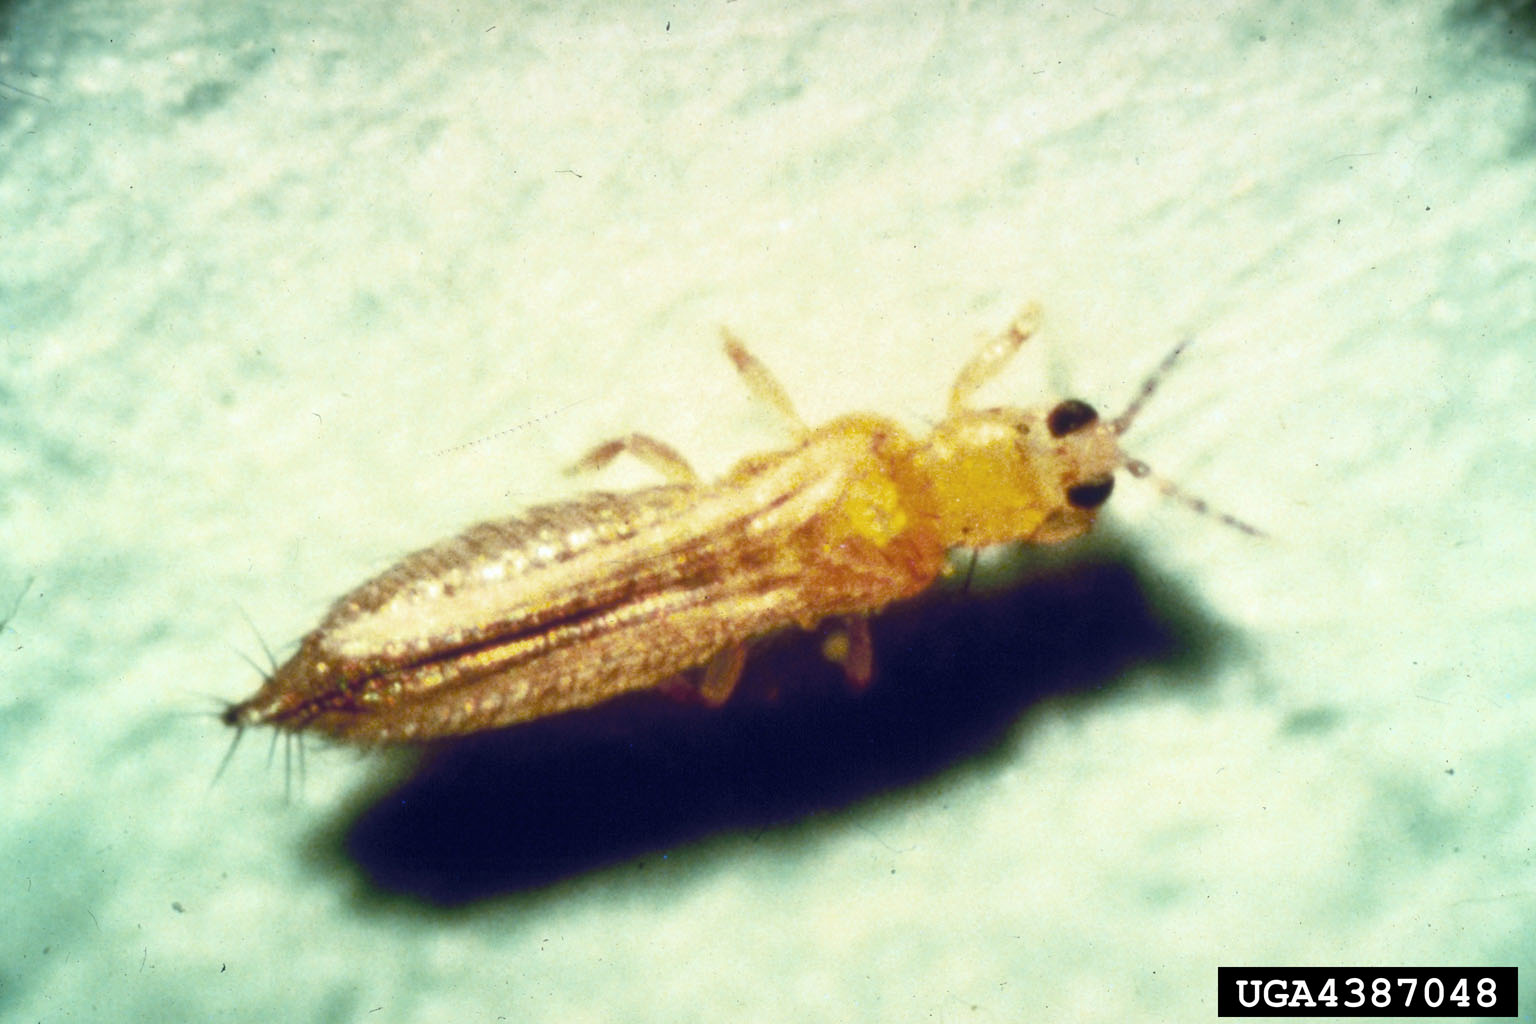Thrips: (254, 292, 1249, 809)
